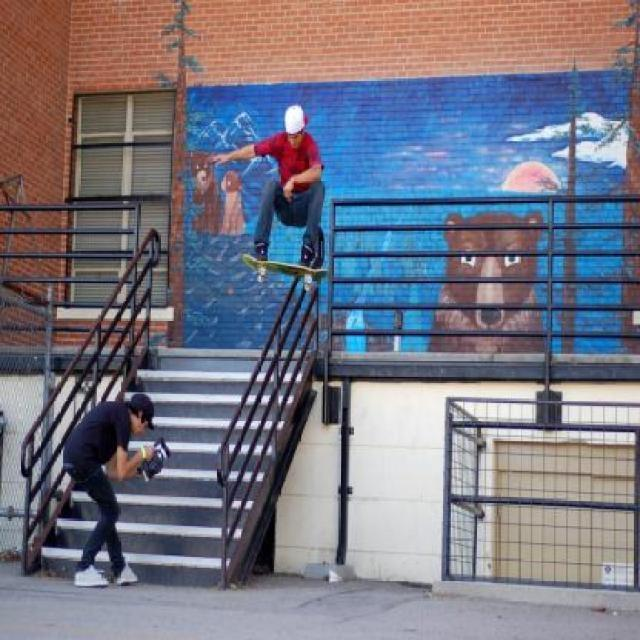stair: (38, 346, 322, 589)
